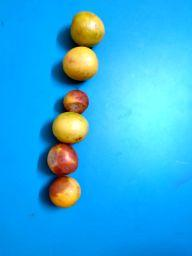lemon: (62, 45, 99, 82), (70, 11, 104, 47), (52, 111, 89, 144), (47, 176, 82, 209), (47, 144, 79, 176), (63, 89, 89, 115)
